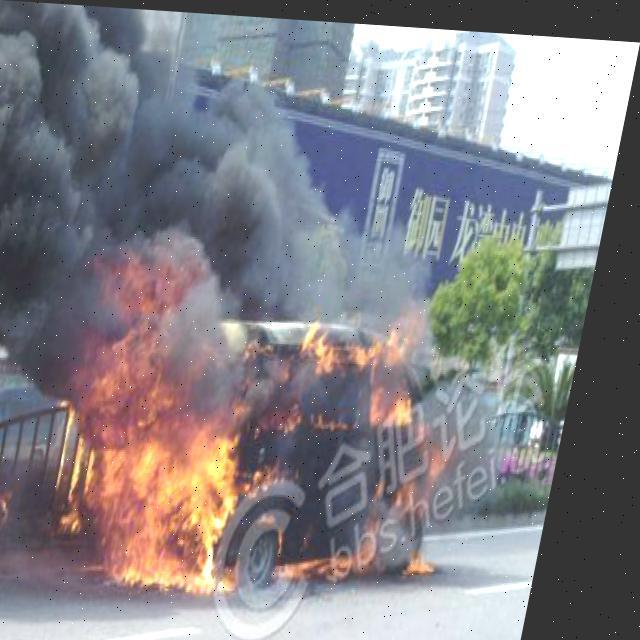Fire: (53, 246, 477, 598), (0, 454, 41, 552)
